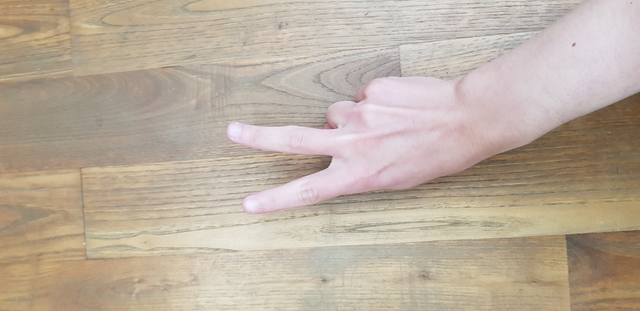Scissors: (191, 67, 495, 233)
